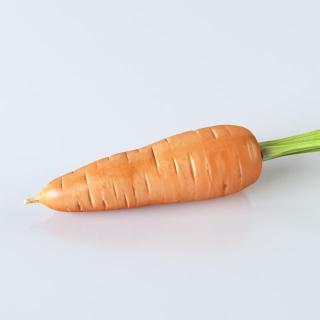carrot: (23, 119, 272, 214)
